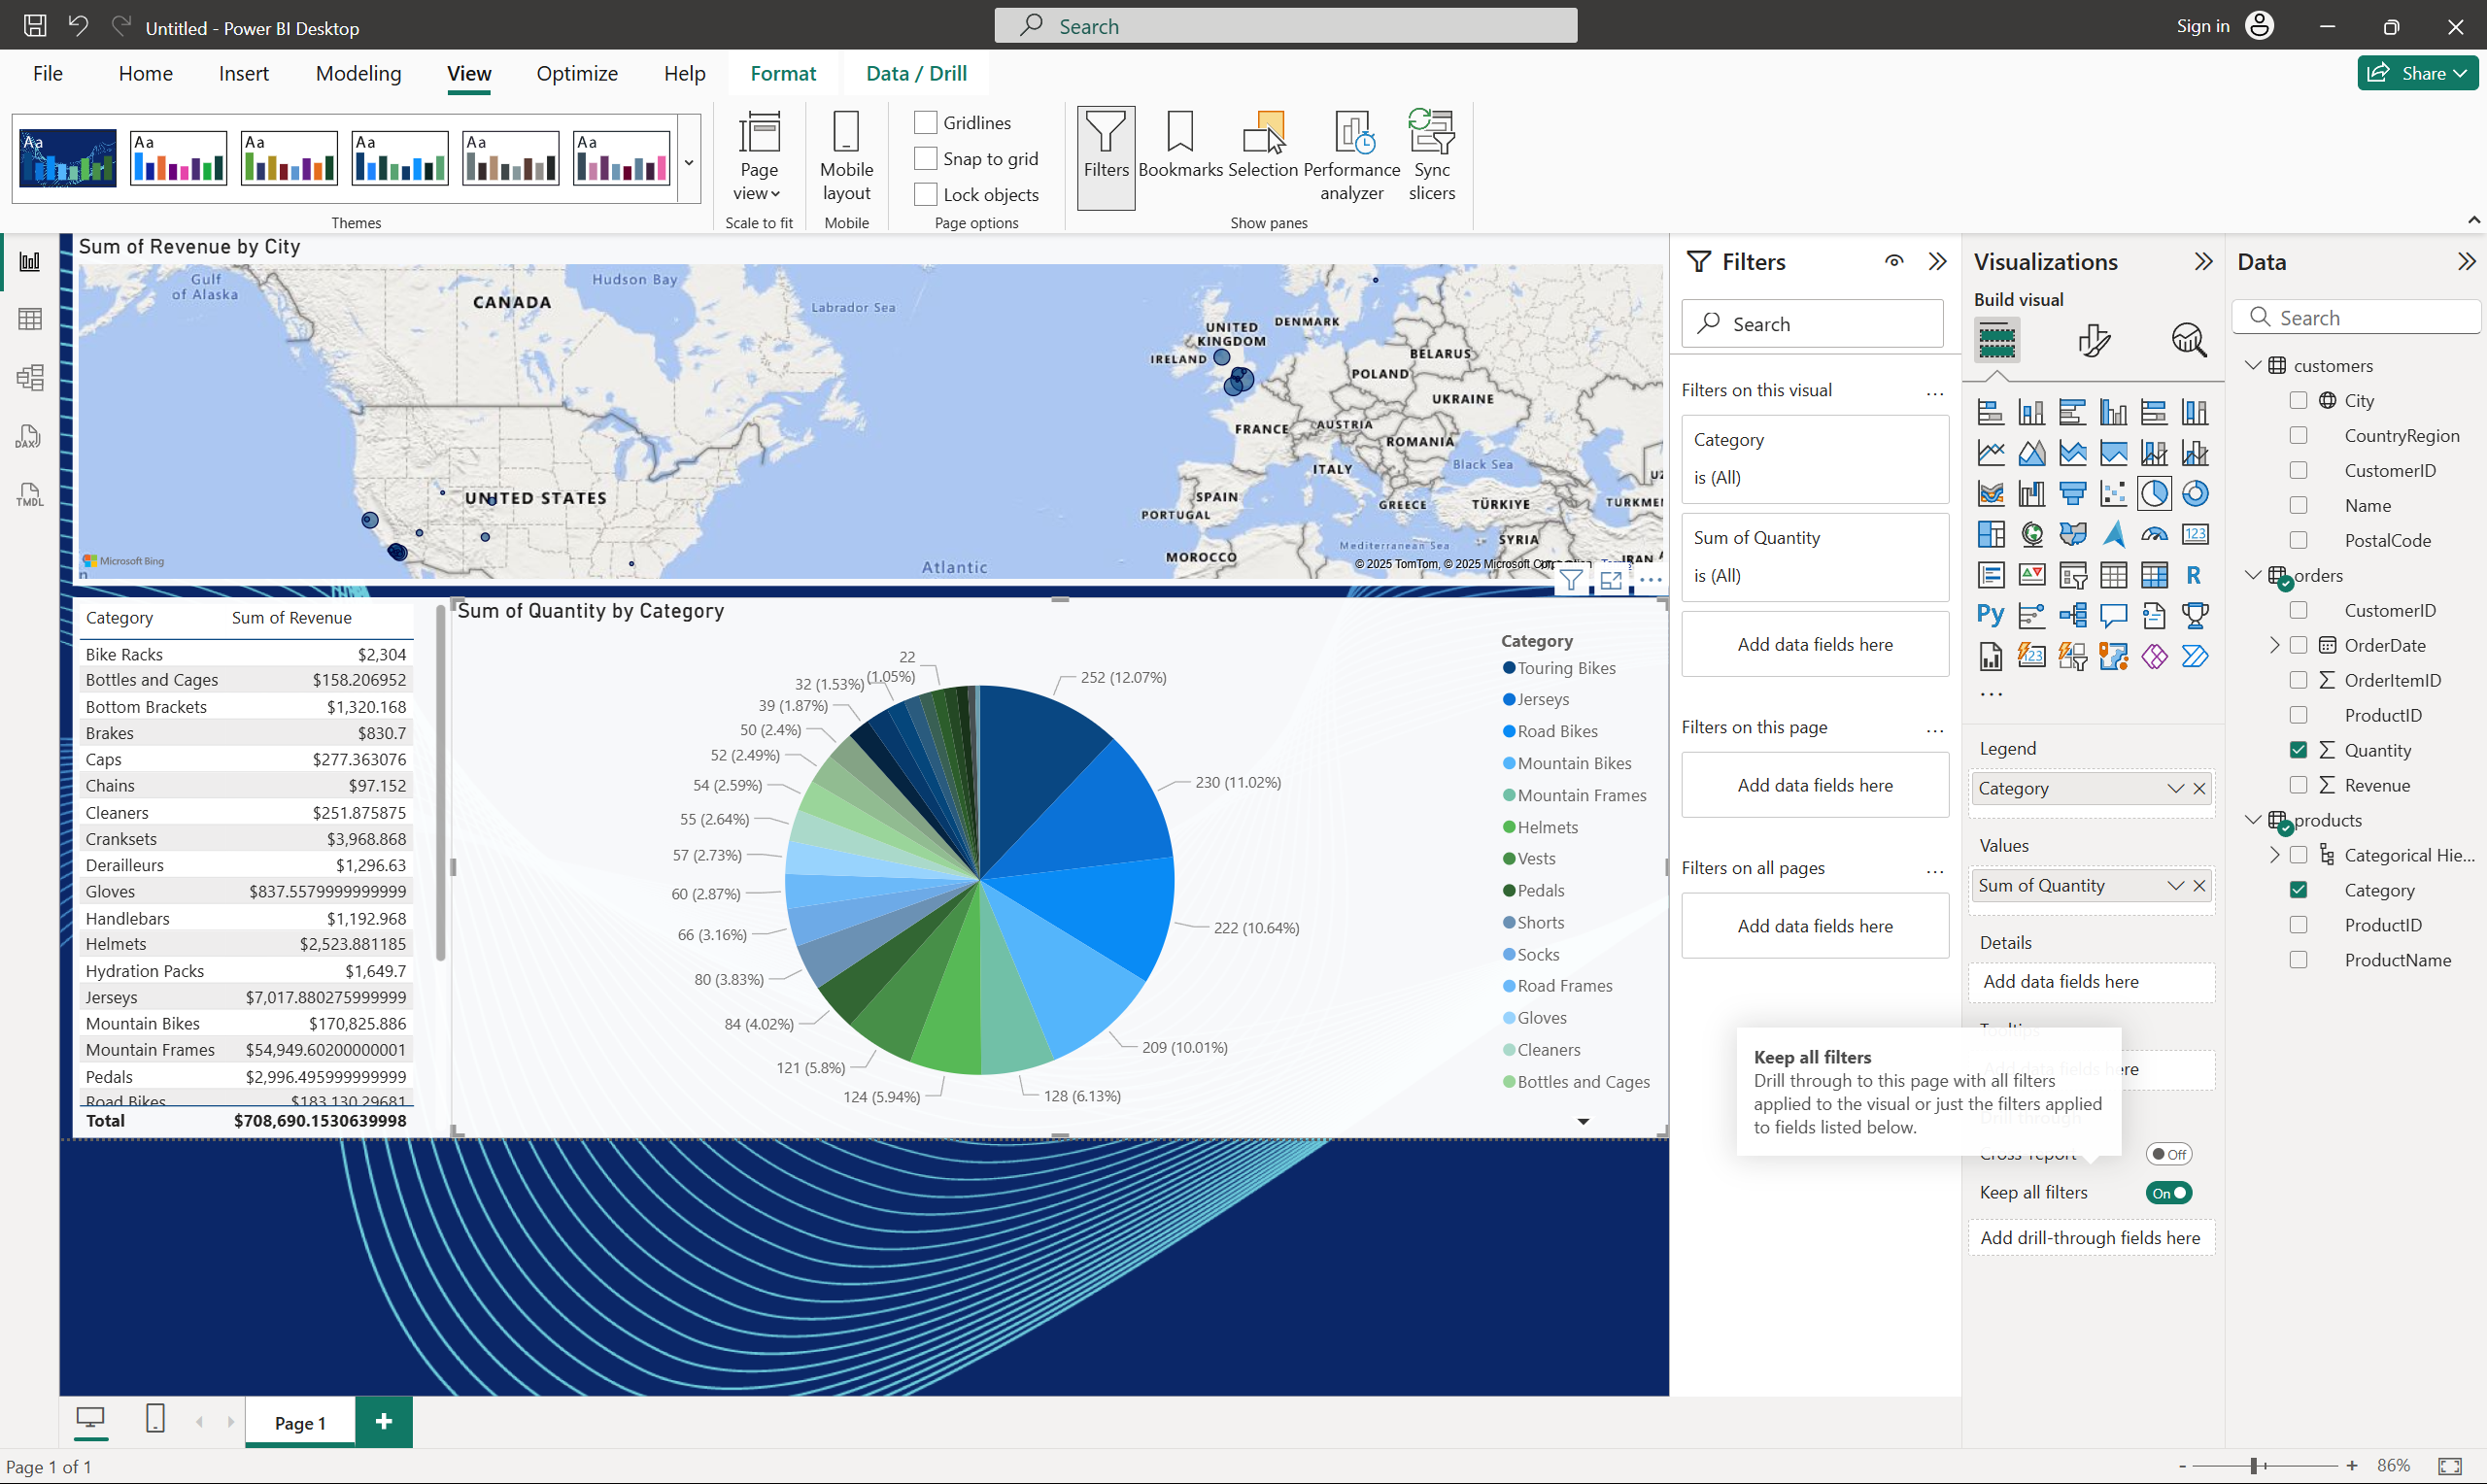

What the dashboard file says about the page in this screenshot:
{"tool":"powerbi","page":{"name":"Page 1","canvas":[1280,720],"ordinal":0},"visuals":[{"type":"textbox","box":[10.4,0,1270,68.4],"z":0},{"type":"columnChart","fields":{"Category":["products.Categorized Product.Category","products.Categorized Product.ProductName"],"Y":["Sum(orders.Revenue)","CountNonNull(products.ProductName)"]},"box":[0,264.2,745.1,455.4],"z":1000},{"type":"pieChart","fields":{"Category":["products.Category"],"Y":["Sum(orders.Quantity)"]},"box":[745.1,264.2,535.3,455.4],"z":2000},{"type":"map","fields":{"Category":["customers.City"],"Size":["Sum(orders.Revenue)"]},"box":[10.4,68.4,1270,185.4],"z":3000}]}

Visuals, with their boxes on the page's 1280x720 design canvas (x1, y1, x2, y2). These are canvas units, not pixel positions in the 2487x1484 screenshot, which may show the page scaled, cropped or inside an application window:
textbox: [10, 0, 1280, 68]
columnChart - products.Categorized Product.Category x products.Categorized Product.ProductName: [0, 264, 745, 720]
pieChart - products.Category x Sum(orders.Quantity): [745, 264, 1280, 720]
map - customers.City x Sum(orders.Revenue): [10, 68, 1280, 254]
